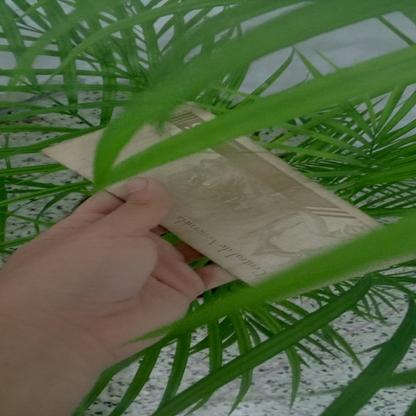five-back-vef: (39, 100, 416, 302)
